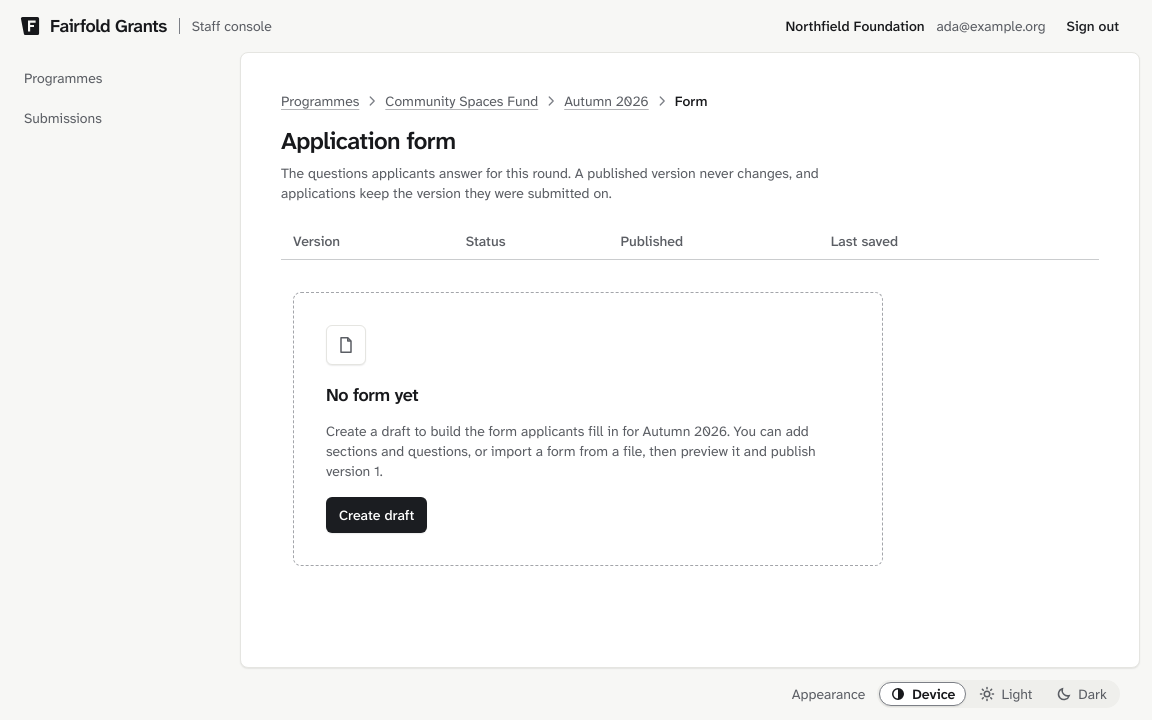
Scenario: a round's form › starts a draft and opens it
Step 1. Click the button "Create draft" → (377, 515), box [326,497,427,533]
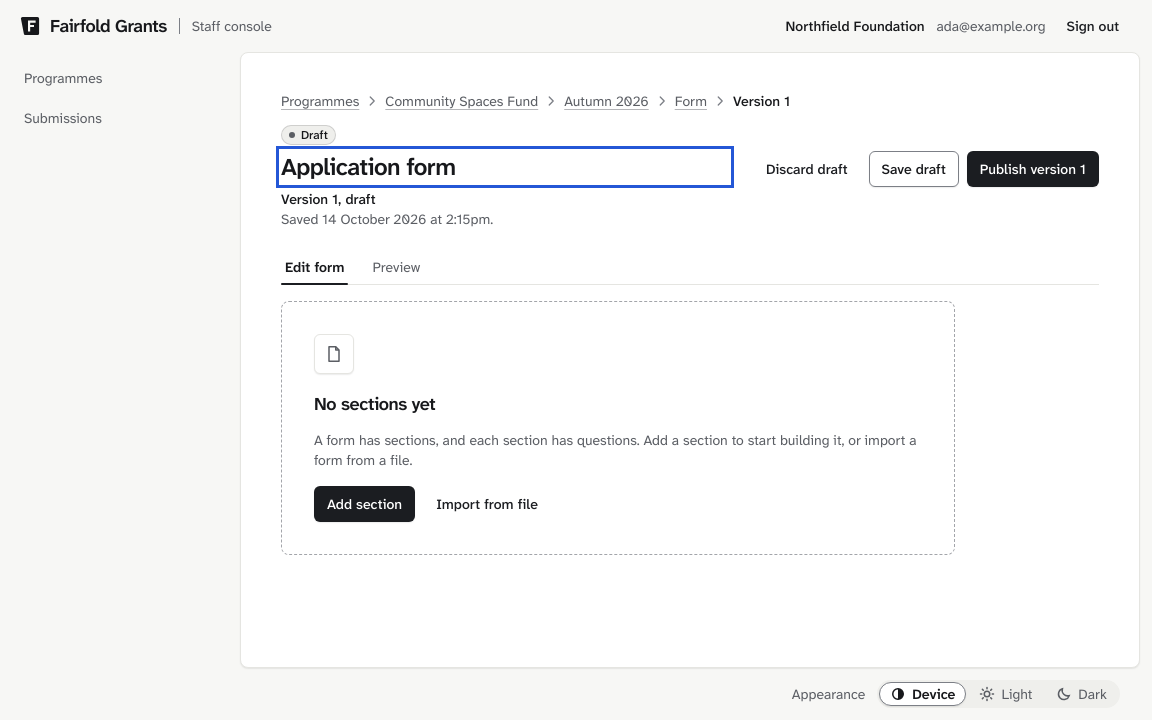
Expected: the heading "No sections yet" is shown, [314,390,435,418]
